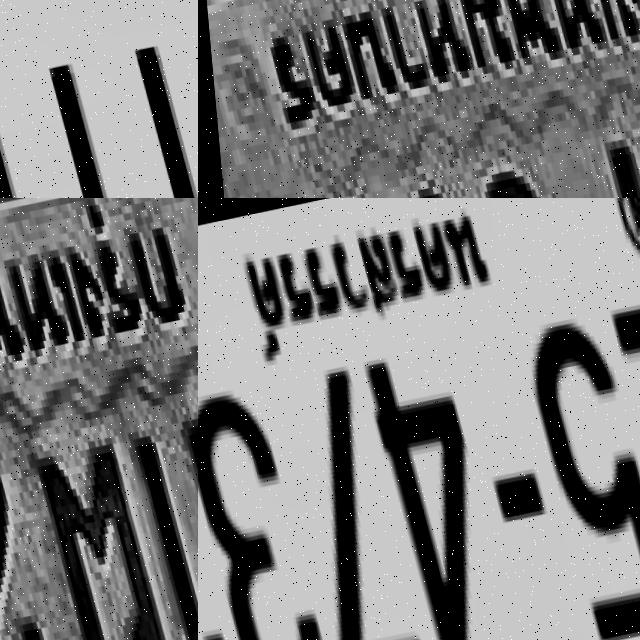license-plate: (198, 198, 640, 640), (198, 0, 640, 198), (0, 198, 198, 640), (0, 0, 198, 198)
